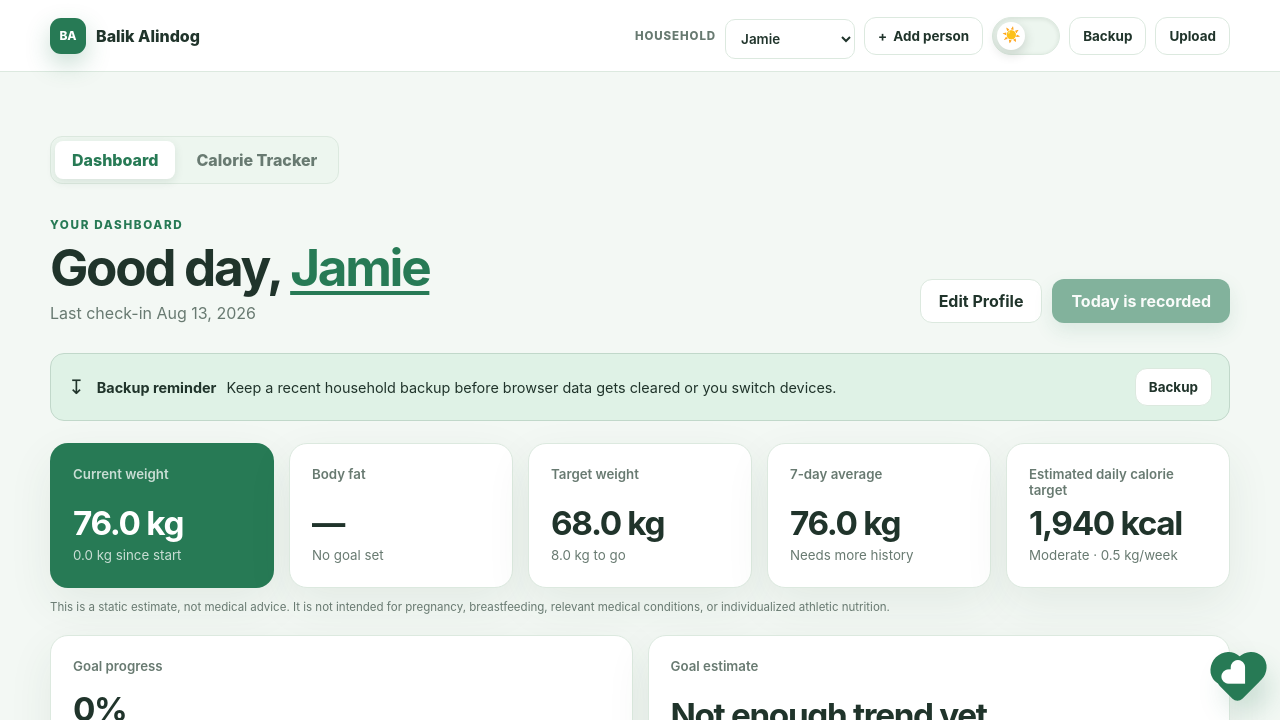
Scenario: Balik Alindog Tracker › edits profile details from the dashboard
Click the button "Edit Profile". click: (981, 301)
box: [920,279,1042,323]
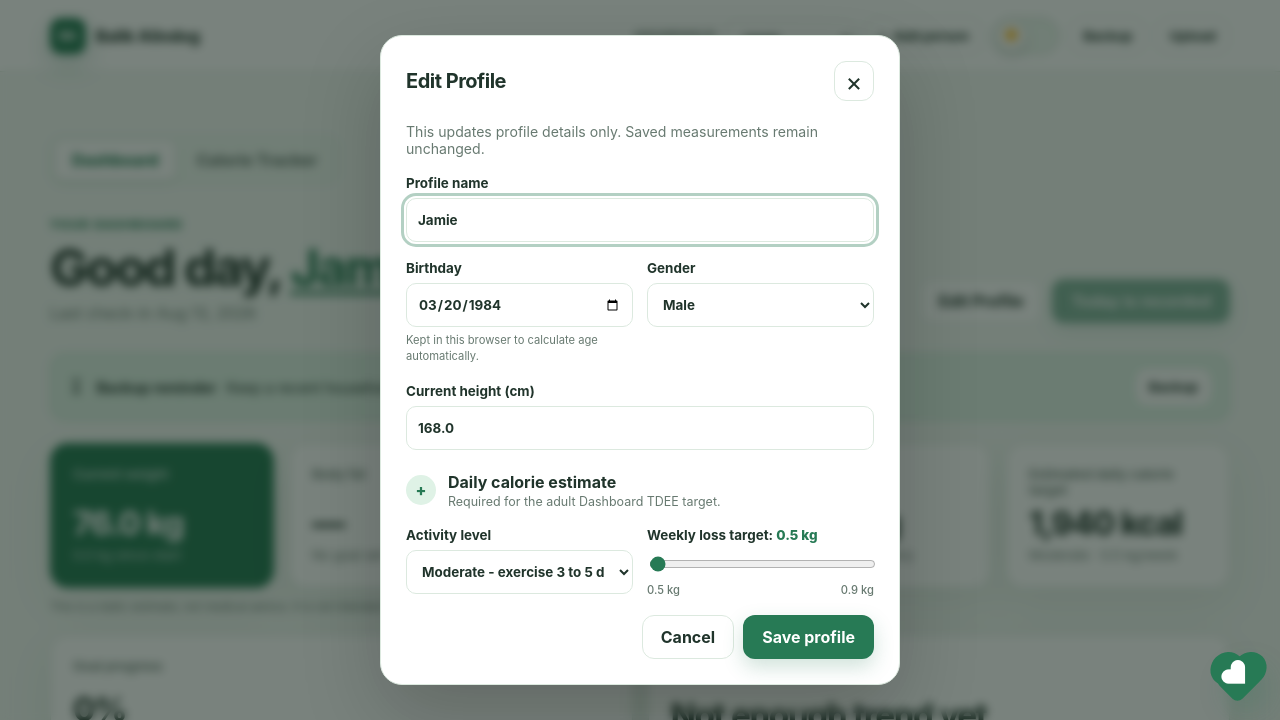
Replace the text in the field labelled "Profile name" with "Jamie D". click: (640, 220)
box: [406,198,874,242]
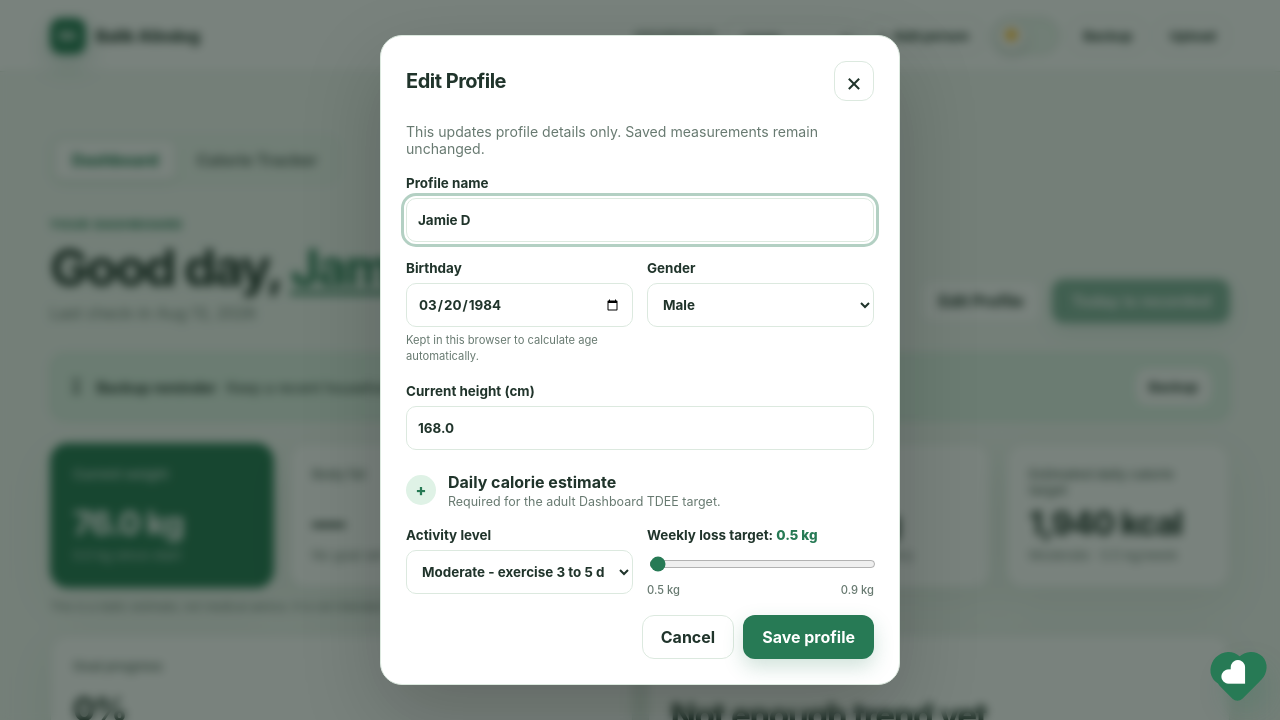
Click the button "Save profile". click: (809, 637)
box: [743,615,874,659]
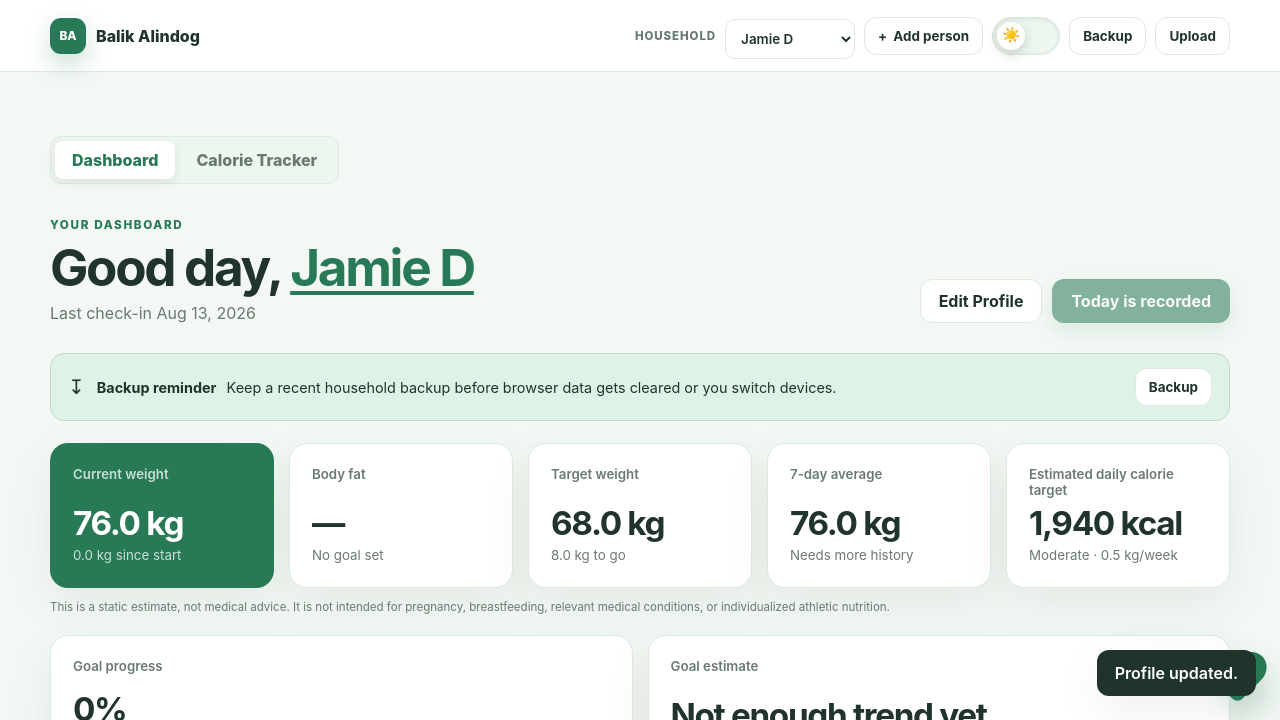
expect the heading "Good day, Jamie D" is shown: met, box [50,240,474,295]
